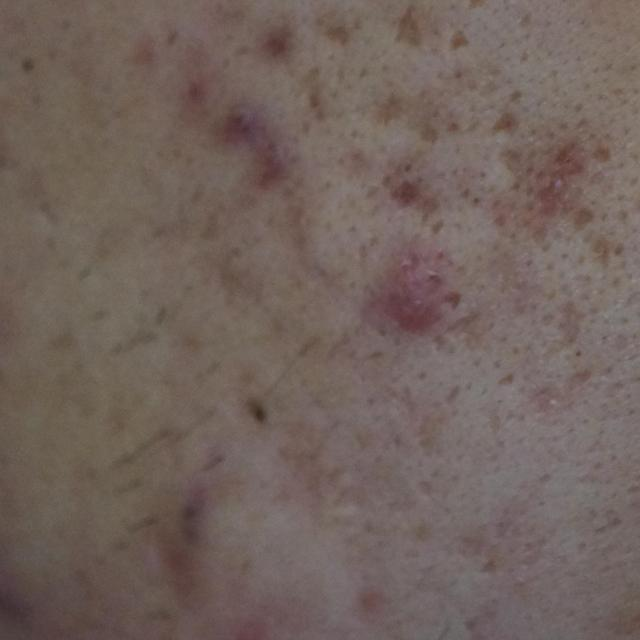nodule: (359, 230, 474, 362), (200, 88, 316, 203)
